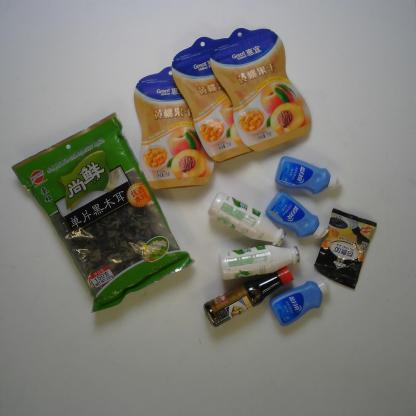Dried Food: (9, 111, 199, 315)
Dried Fruit: (206, 21, 314, 154), (131, 63, 217, 193), (170, 37, 256, 163)
Instant Drink: (314, 206, 382, 292)
Milk: (206, 186, 288, 246), (217, 240, 303, 282)
Personal Hygiene: (262, 188, 330, 241), (271, 272, 332, 328), (268, 150, 340, 196)
Seasoner: (202, 264, 297, 330)
